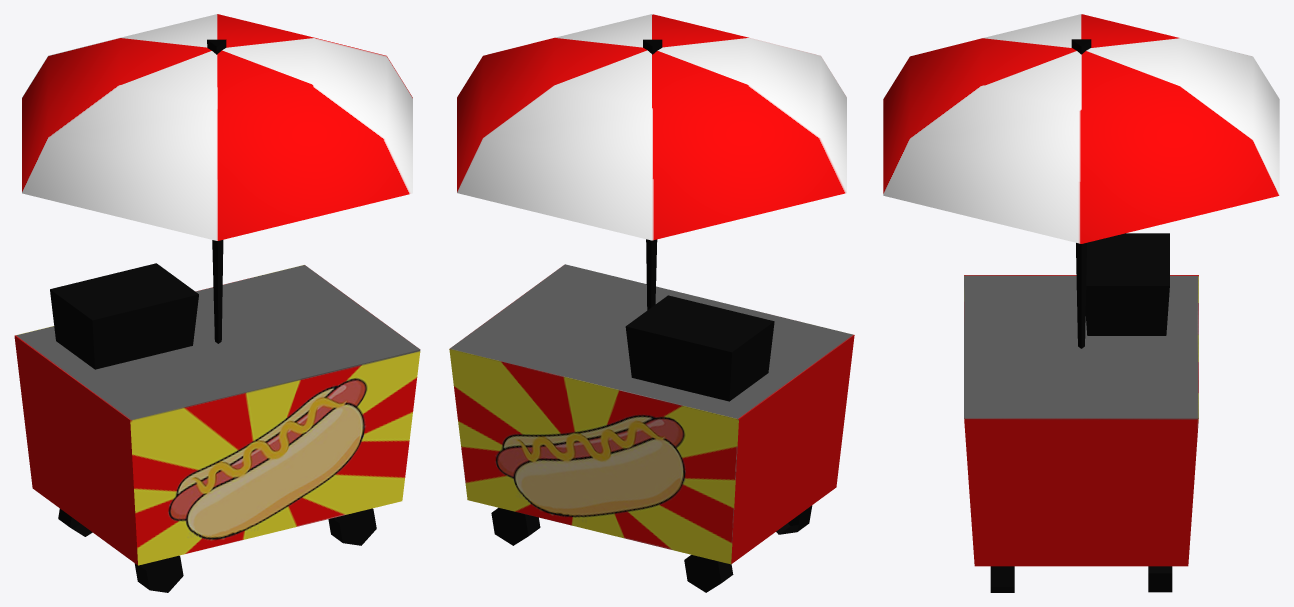
Rendered from HotDogCart.fbx.
The picture shows the model from 3 angles, left to right: view 1: azimuth 30°, elevation 25°; view 2: azimuth 150°, elevation 25°; view 3: azimuth 270°, elevation 25°; orthographic projection.
Parts seen in each view (by area): view 1: TODOS:HotDog:hotdog1:pCube1, TODOS:HotDog:pSphere1, TODOS:HotDog:pCube2, TODOS:HotDog:pCylinder1, TODOS:HotDog:pCylinder3, TODOS:HotDog:pCylinder2; view 2: TODOS:HotDog:hotdog1:pCube1, TODOS:HotDog:pSphere1, TODOS:HotDog:pCube2, TODOS:HotDog:pCylinder1, TODOS:HotDog:pCylinder3, TODOS:HotDog:pCylinder2; view 3: TODOS:HotDog:pSphere1, TODOS:HotDog:hotdog1:pCube1, TODOS:HotDog:pCube2, TODOS:HotDog:pCylinder2, TODOS:HotDog:pCylinder3, TODOS:HotDog:pCylinder1.
Part boxes in pixels (x1,y1,x2,y2): TODOS:HotDog:hotdog1:pCube1: (14,265,420,565); TODOS:HotDog:pSphere1: (22,14,412,240); TODOS:HotDog:pCube2: (50,263,198,369); TODOS:HotDog:pCylinder1: (134,555,183,592); TODOS:HotDog:pCylinder3: (328,508,376,545); TODOS:HotDog:pCylinder2: (207,39,226,343); TODOS:HotDog:hotdog1:pCube1: (449,264,854,564); TODOS:HotDog:pSphere1: (457,14,846,240); TODOS:HotDog:pCube2: (625,295,774,401); TODOS:HotDog:pCylinder1: (491,507,540,545); TODOS:HotDog:pCylinder3: (684,555,733,592); TODOS:HotDog:pCylinder2: (643,39,662,310); TODOS:HotDog:pSphere1: (883,14,1279,243); TODOS:HotDog:hotdog1:pCube1: (964,275,1198,566); TODOS:HotDog:pCube2: (1085,233,1169,335); TODOS:HotDog:pCylinder2: (1071,39,1091,348); TODOS:HotDog:pCylinder3: (990,566,1014,592); TODOS:HotDog:pCylinder1: (1148,566,1172,592).
Size of the model in its own units: 7.9 by 9.56 by 6.84.
